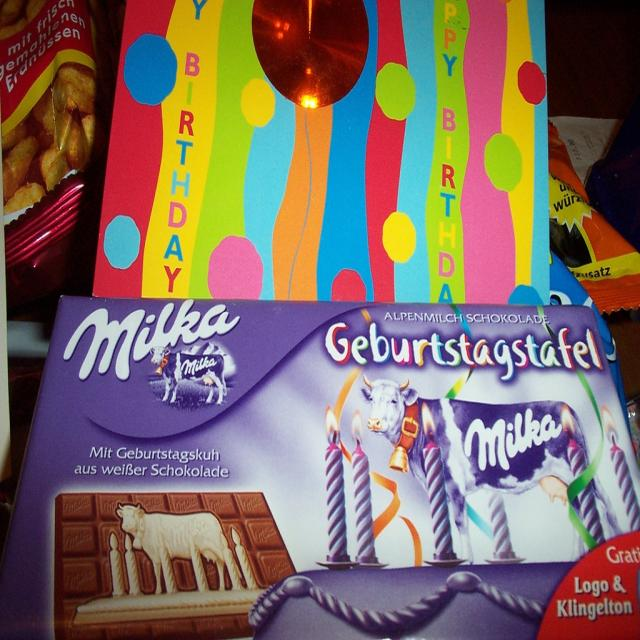milka: (360, 374, 624, 568), (62, 296, 242, 412)
